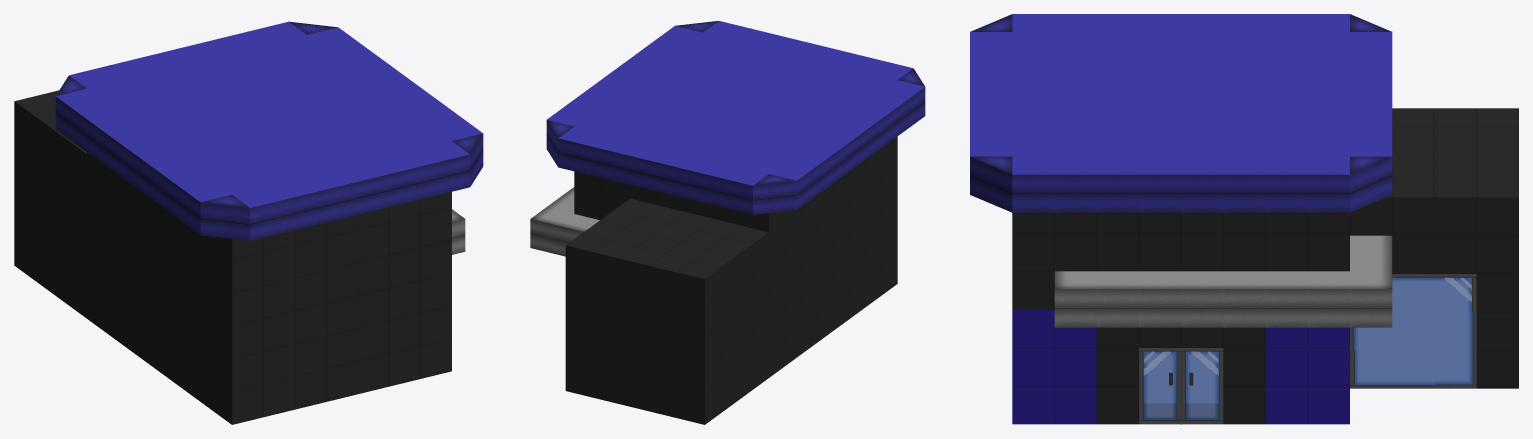
File: borgertown.dae
3 renders of one model, left to right at view 1: azimuth 30°, elevation 25°; view 2: azimuth 150°, elevation 25°; view 3: azimuth 270°, elevation 25°, orthographic. The views are drawn at different scales.
Parts seen in each view (by area): view 1: ChefShack-col; view 2: ChefShack-col; view 3: ChefShack-col.
Boxes of the visible parts, left/top/right/bottom form: ChefShack-col: left=14, top=21, right=483, bottom=424; ChefShack-col: left=530, top=21, right=925, bottom=424; ChefShack-col: left=970, top=14, right=1518, bottom=424.
Bounding box in the file's own units: 17.44 × 25.19 × 13.58.
1 material, 1 textured.
